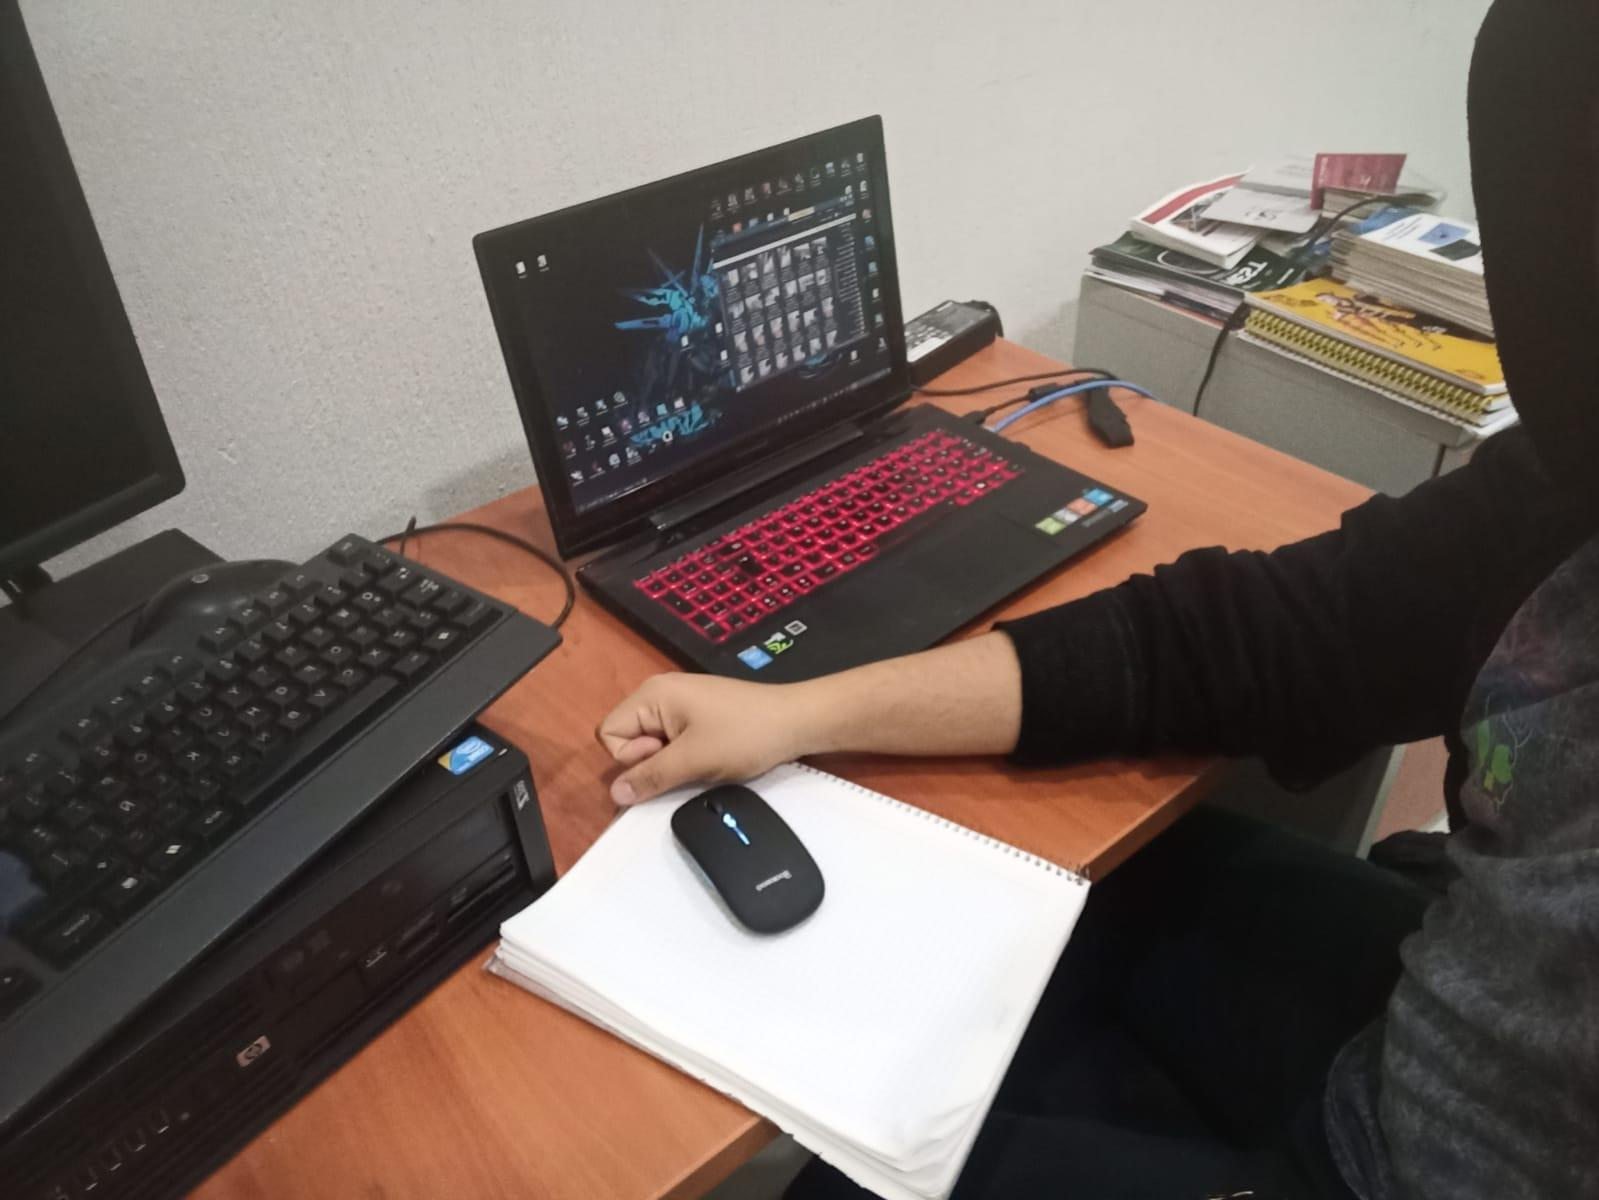Stone: (587, 654, 823, 823)
